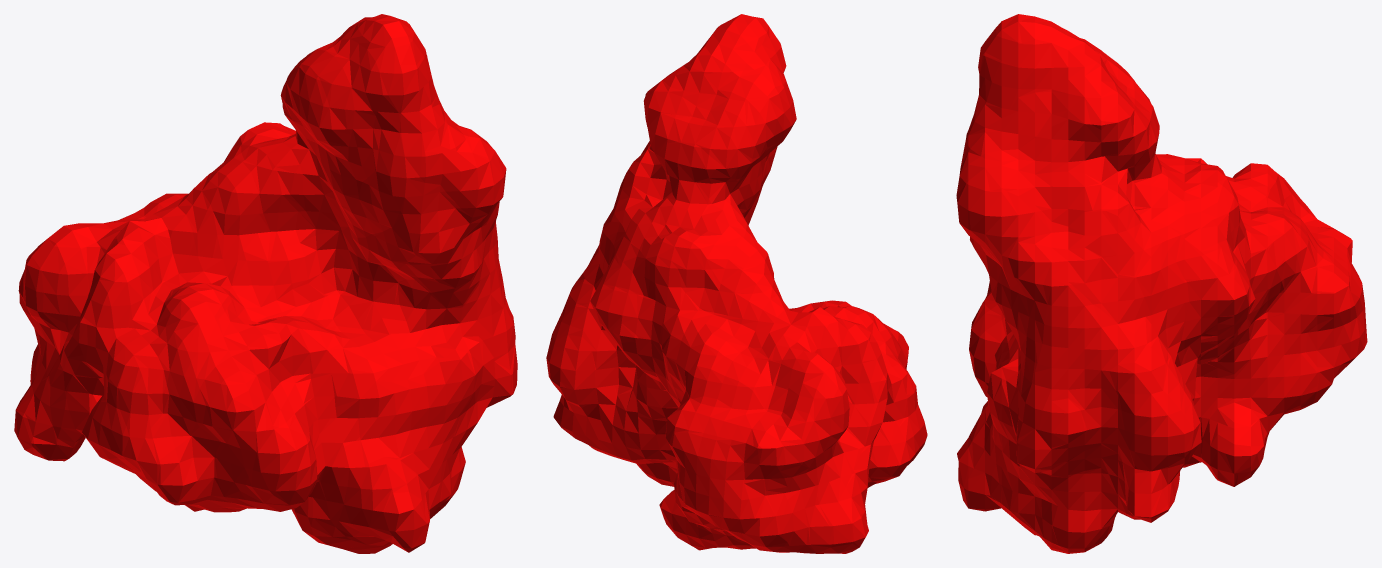
The model's file is Syntaxin_1A_Synaptotagmin_asso_coarse.dae.
The picture shows the model from 3 angles, left to right: view 1: azimuth 30°, elevation 25°; view 2: azimuth 150°, elevation 25°; view 3: azimuth 270°, elevation 25°; orthographic projection. The views are drawn at different scales.
Parts seen in each view (by area): view 1: Syntaxin_1A_Synaptotagmin_asso; view 2: Syntaxin_1A_Synaptotagmin_asso; view 3: Syntaxin_1A_Synaptotagmin_asso.
Part boxes in pixels (bbox=[...]): Syntaxin_1A_Synaptotagmin_asso: bbox=[14, 14, 517, 553]; Syntaxin_1A_Synaptotagmin_asso: bbox=[546, 14, 927, 553]; Syntaxin_1A_Synaptotagmin_asso: bbox=[956, 14, 1367, 553].
Bounding box in the file's own units: 81.06 × 102 × 73.51.
